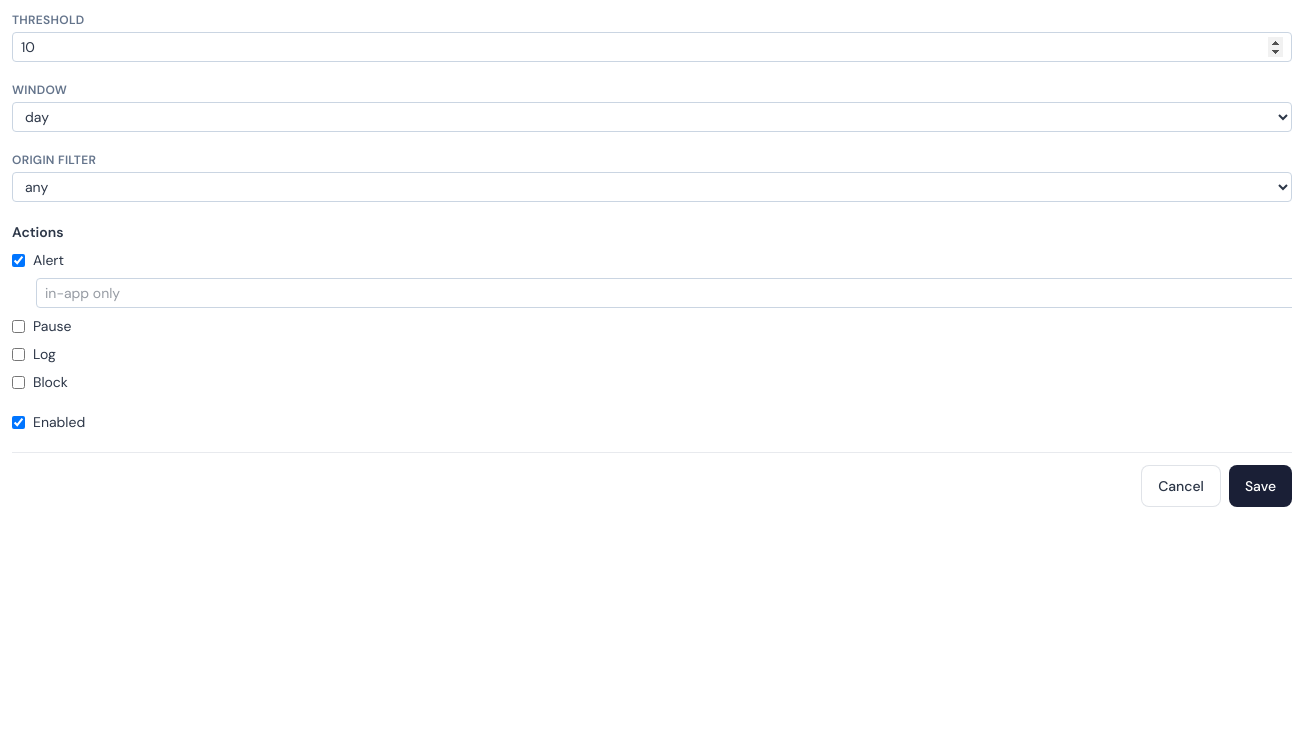
Test: RuleDrawerBody validation › disables Save when the threshold is cleared or non-positive
The width and height of the screenshot is (1304, 732).
Expected: the button "Save" is enabled, [1229,465,1292,507]
Clear the number field labelled "Threshold" at [652, 47], box [12,32,1292,62]
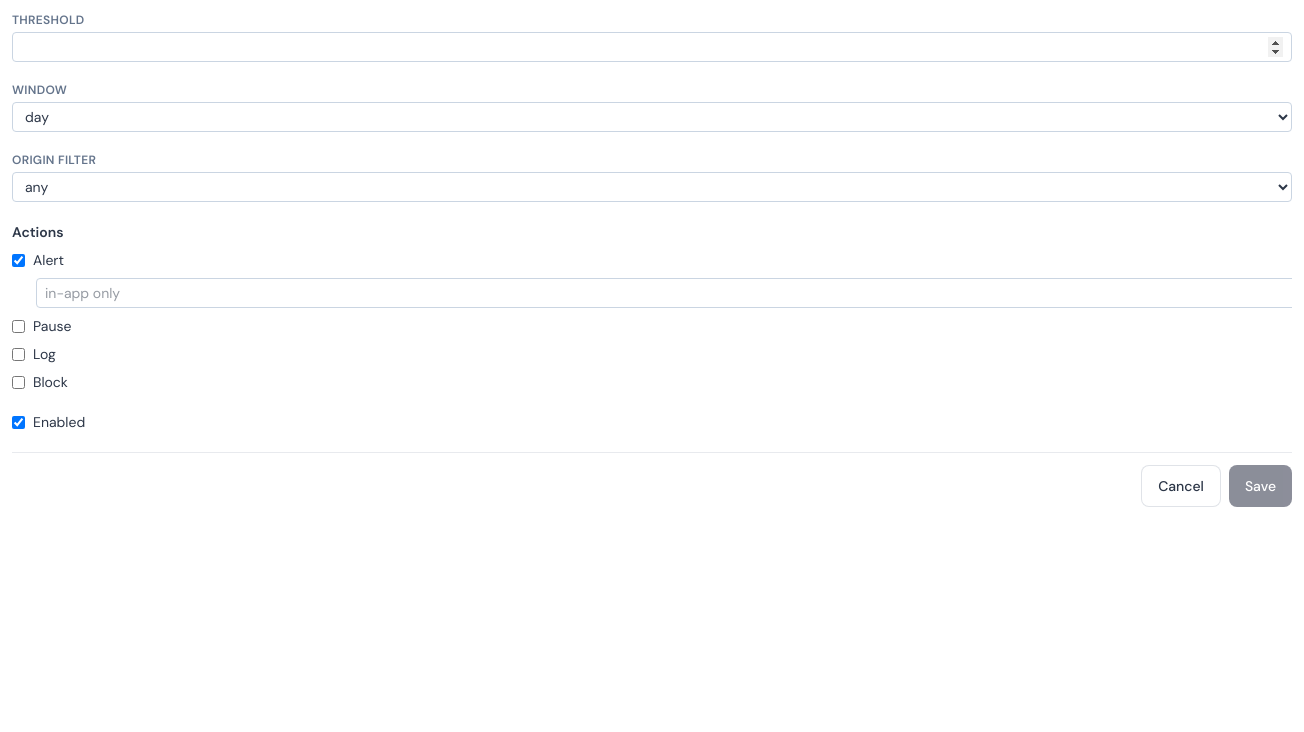
Result: the button "Save" is disabled at [1229,465,1292,507]
Type "0" into the number field labelled "Threshold" at [652, 47], box [12,32,1292,62]
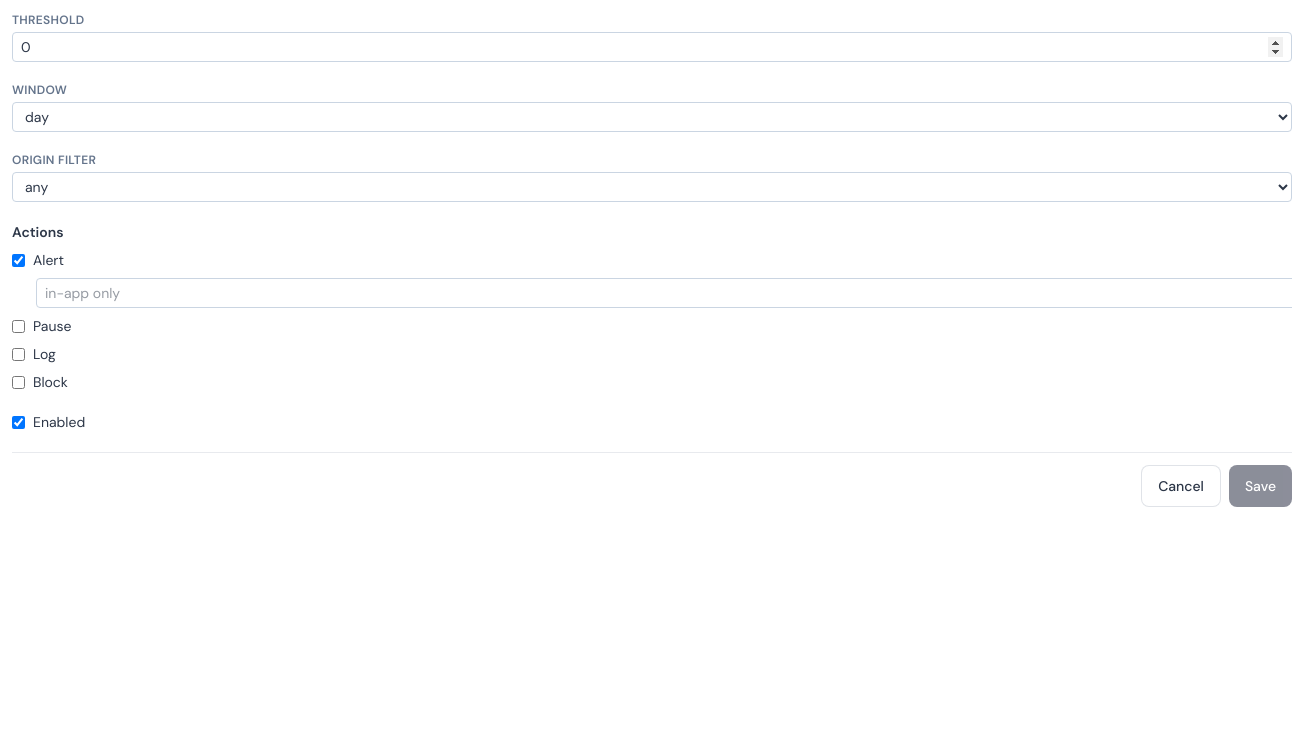
Result: the button "Save" is disabled at [1229,465,1292,507]
Replace the text in the number field labelled "Threshold" with "5" at [652, 47], box [12,32,1292,62]
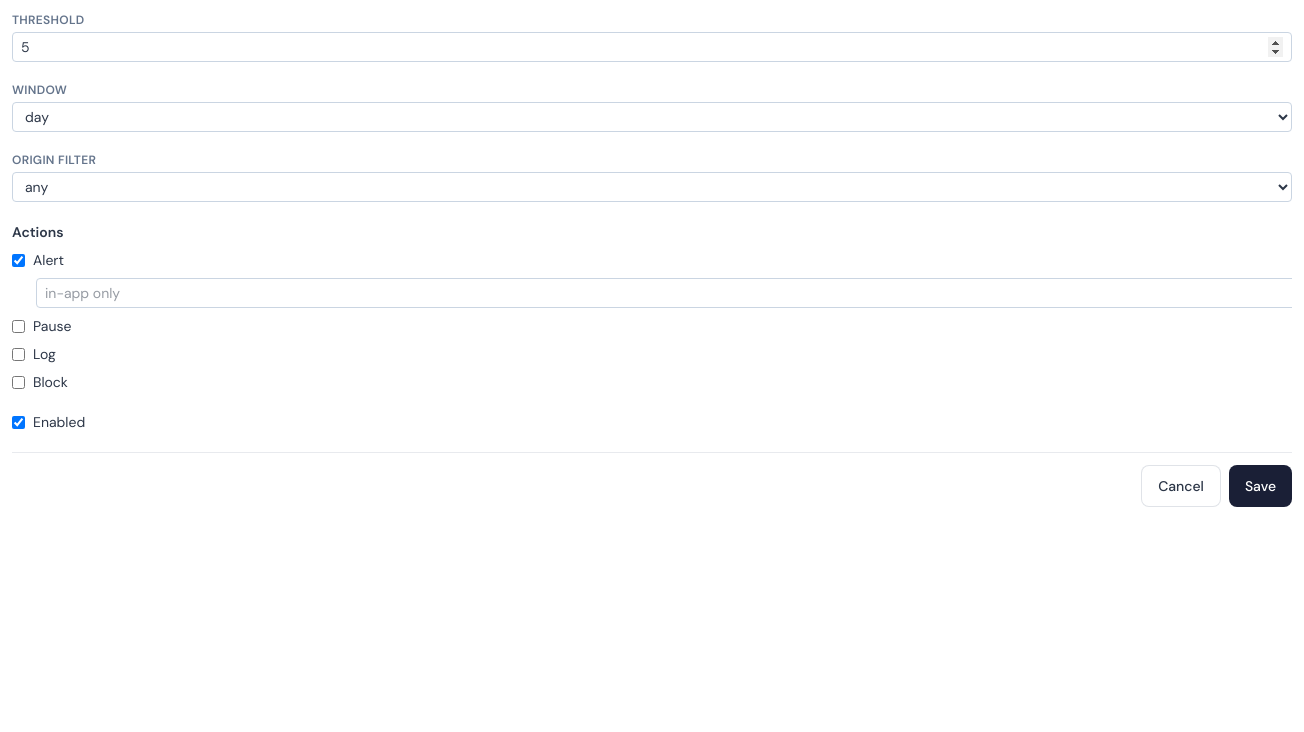
Result: the button "Save" is enabled at [1229,465,1292,507]
